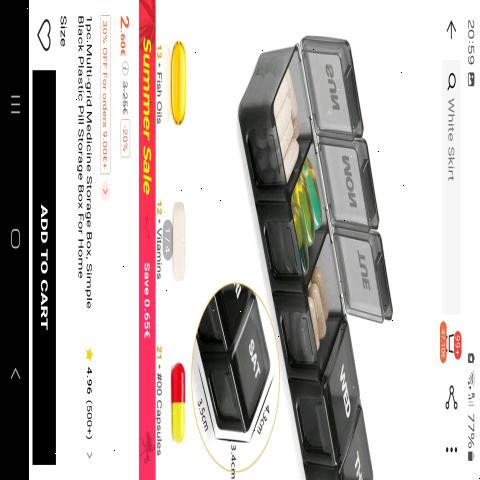PillBox: (238, 18, 410, 480)
